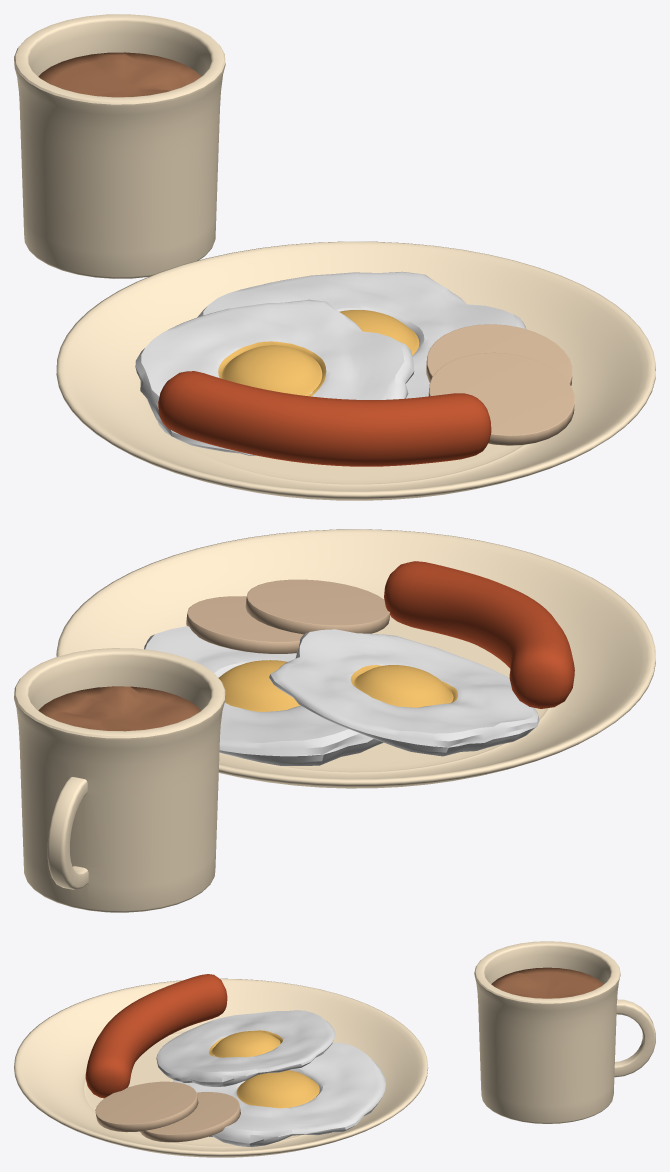
File: Desayunolleno.fbx
3 renders of one model, top to bottom at view 1: azimuth 30°, elevation 25°; view 2: azimuth 150°, elevation 25°; view 3: azimuth 270°, elevation 25°, orthographic. The views are drawn at different scales.
Visible parts, largest first — view 1: Plato, Taza, Salchicha, Huevo2, Huevo1, Arepa1, Taza.002, Arepa2; view 2: Plato, Taza, Huevo2, Salchicha, Huevo1, Arepa1, Taza.002, Arepa2; view 3: Plato, Taza, Huevo1, Huevo2, Salchicha, Arepa1, Arepa2, Taza.002.
Part boxes in pixels (x1,y1,x2,y2): Plato: [56, 241, 655, 500]; Taza: [14, 14, 225, 278]; Salchicha: [158, 371, 491, 466]; Huevo2: [135, 299, 414, 455]; Huevo1: [197, 271, 526, 398]; Arepa1: [428, 352, 574, 445]; Taza.002: [38, 52, 201, 97]; Arepa2: [426, 324, 572, 385]; Plato: [56, 529, 655, 788]; Taza: [14, 648, 225, 912]; Huevo2: [269, 629, 539, 756]; Salchicha: [384, 561, 574, 708]; Huevo1: [144, 626, 383, 765]; Arepa1: [245, 579, 389, 634]; Taza.002: [38, 686, 200, 731]; Arepa2: [186, 596, 303, 653]; Plato: [14, 978, 427, 1157]; Taza: [474, 941, 655, 1123]; Huevo1: [173, 1042, 385, 1146]; Huevo2: [156, 1010, 335, 1086]; Salchicha: [85, 974, 227, 1098]; Arepa1: [95, 1081, 198, 1132]; Arepa2: [140, 1092, 240, 1142]; Taza.002: [491, 967, 603, 998].
Bounding box in the file's own units: 597 × 202 × 926.
